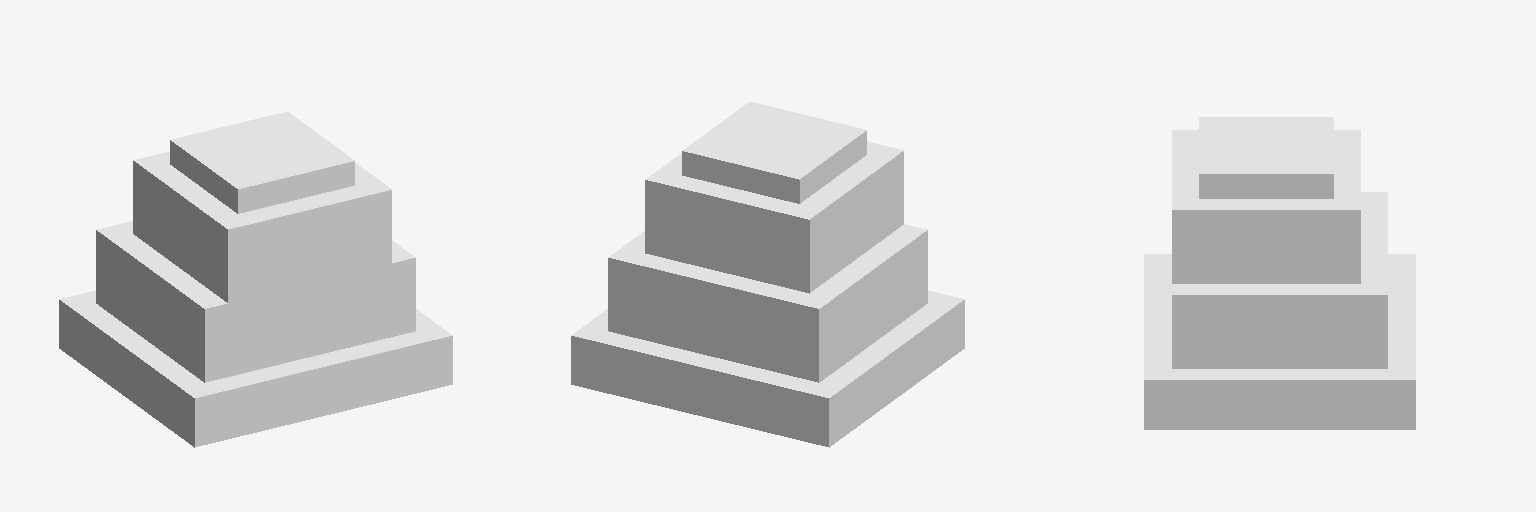
The model's file is sliz.obj.
3 renders of one model, left to right at view 1: azimuth 30°, elevation 25°; view 2: azimuth 150°, elevation 25°; view 3: azimuth 270°, elevation 25°, orthographic.
Parts seen in each view (by area): view 1: object 1; view 2: object 1; view 3: object 1.
Part boxes in pixels (bbox=[...]): object 1: bbox=[59, 111, 452, 447]; object 1: bbox=[571, 102, 964, 447]; object 1: bbox=[1144, 117, 1415, 429].
Bounding box in the file's own units: 1.1 × 0.9 × 1.